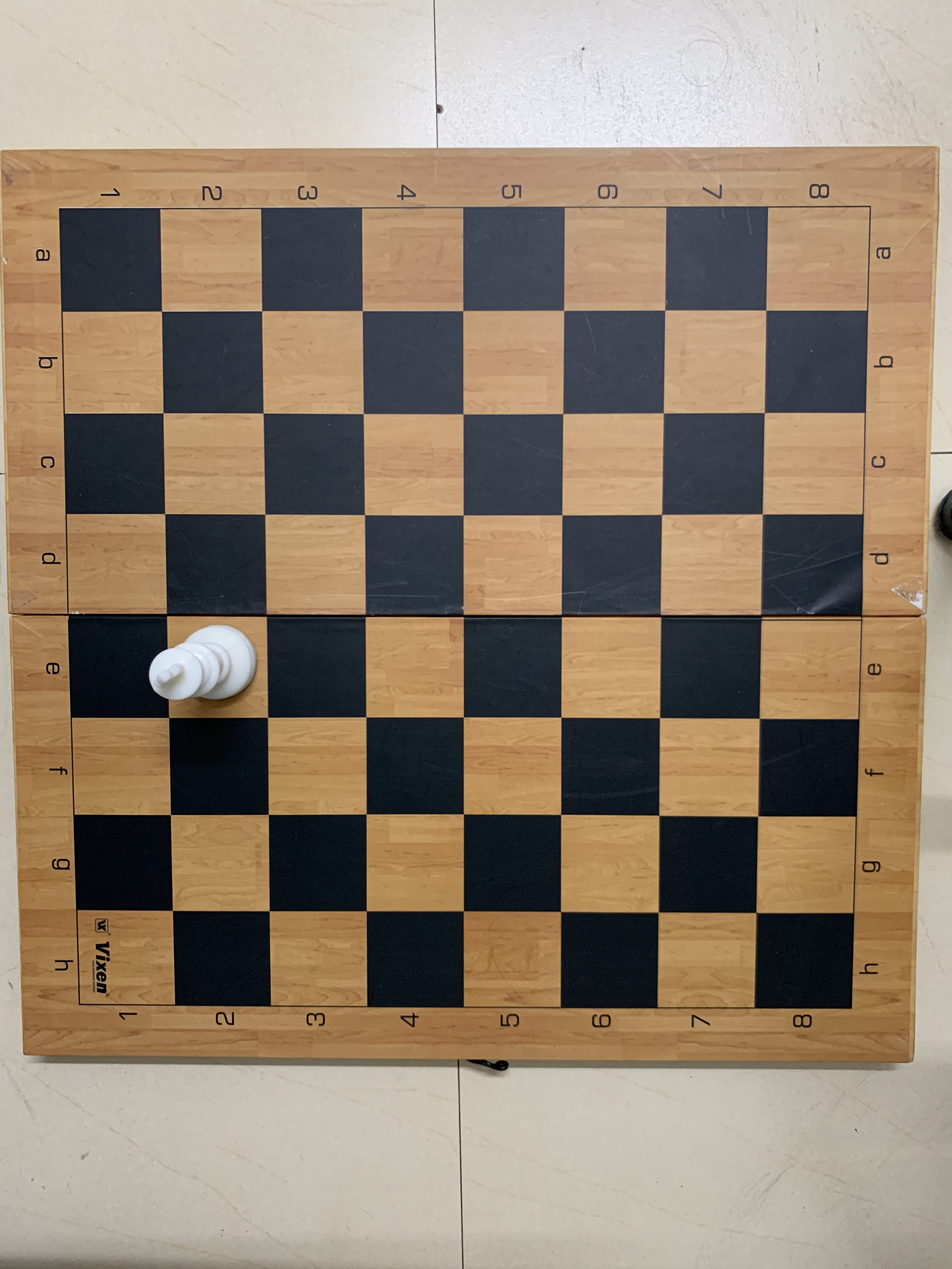white_king: (148, 616, 268, 718)
